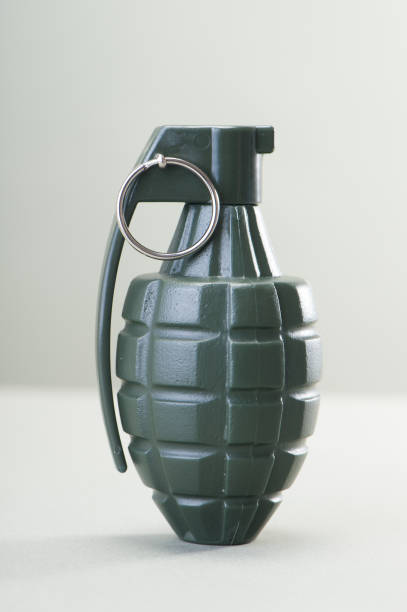e1: (94, 122, 326, 551)
